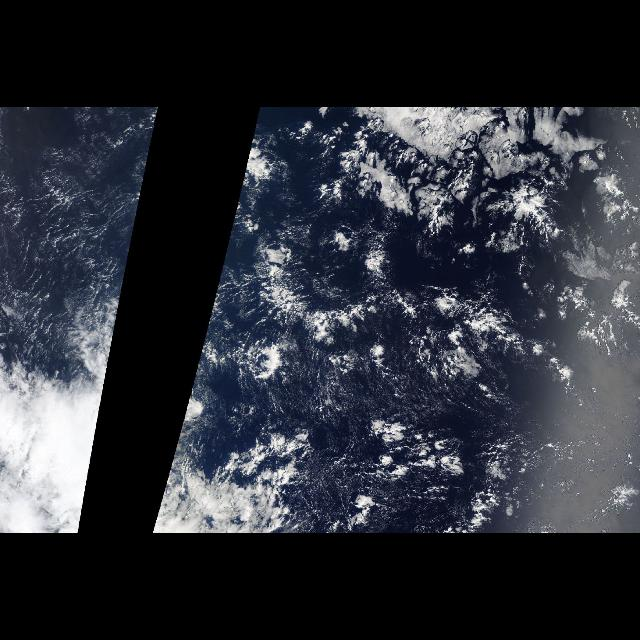Flower: (311, 115, 623, 253)
Gravel: (236, 268, 640, 514), (12, 116, 68, 362)
Sugar: (4, 115, 152, 358)
